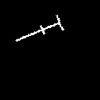double_crochet: (16, 15, 63, 40)
